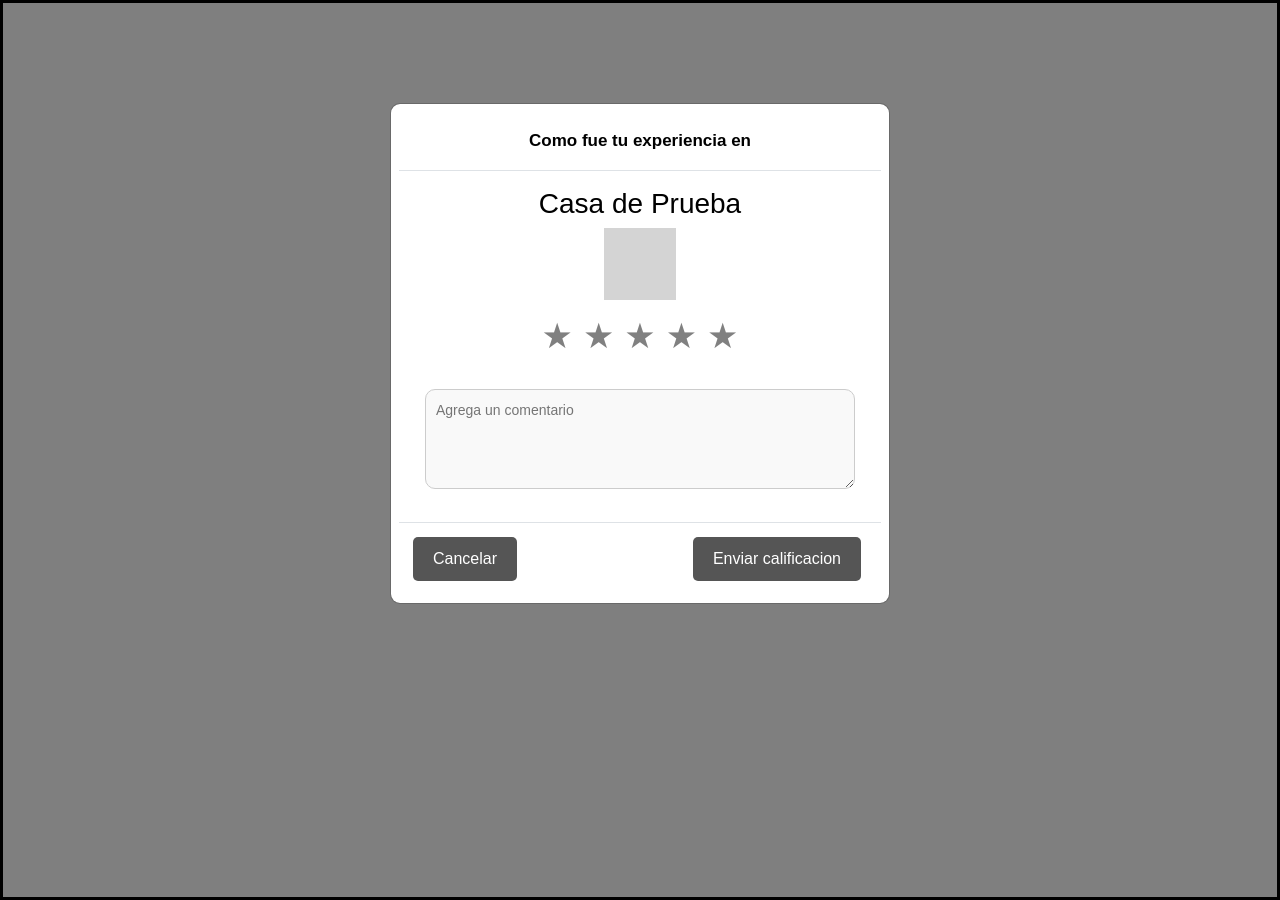
it: ServiceRating › Intentar enviar sin seleccionar puntaje muestra error
This screenshot has width=1280, height=900.
Expected: the heading "Casa de Prueba" is shown, [539, 186, 741, 220]
Click the button "Enviar calificacion" at point(777, 559), box [693, 537, 861, 581]
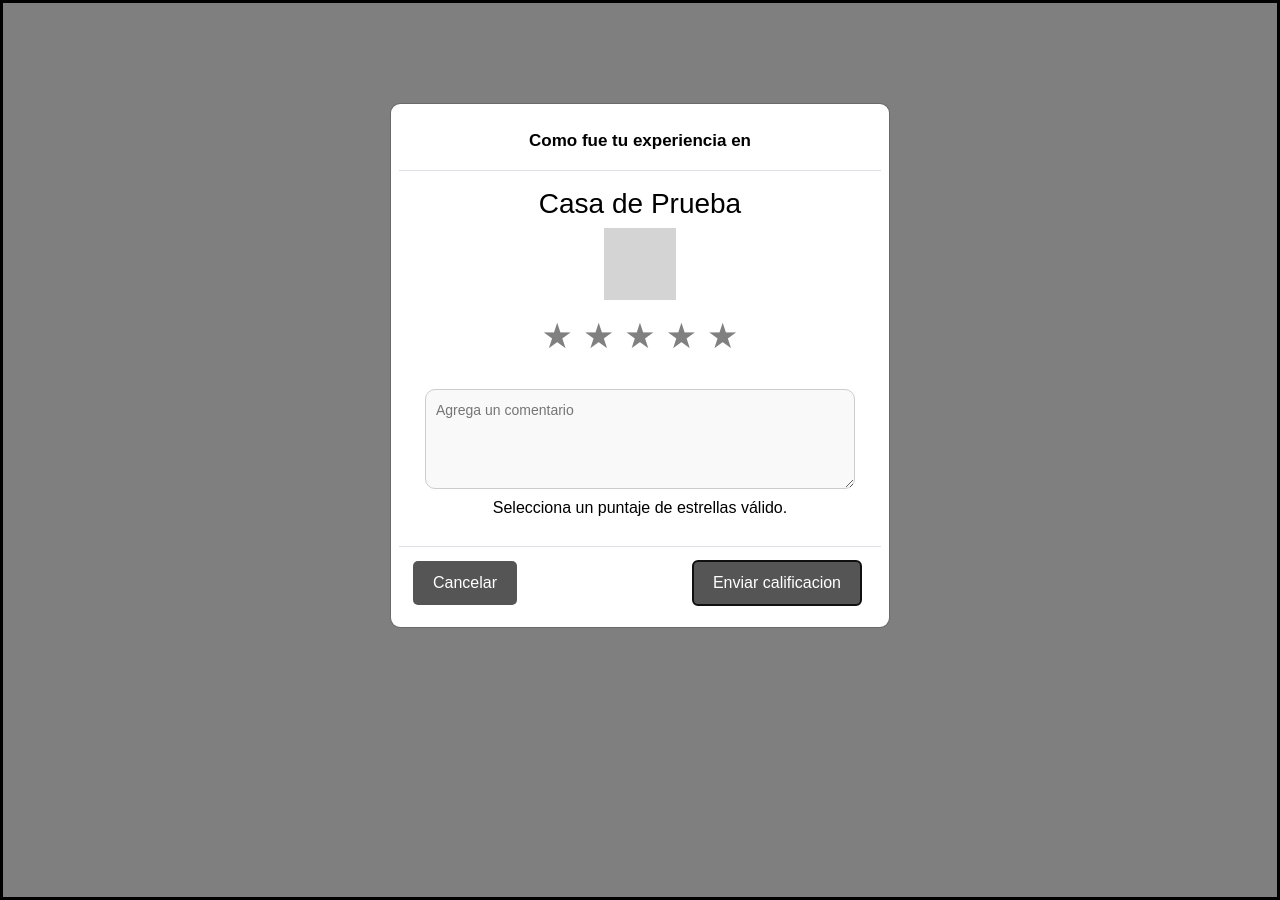
Expected: the text "Selecciona un puntaje de estrellas válido." is shown, [493, 499, 787, 516]
